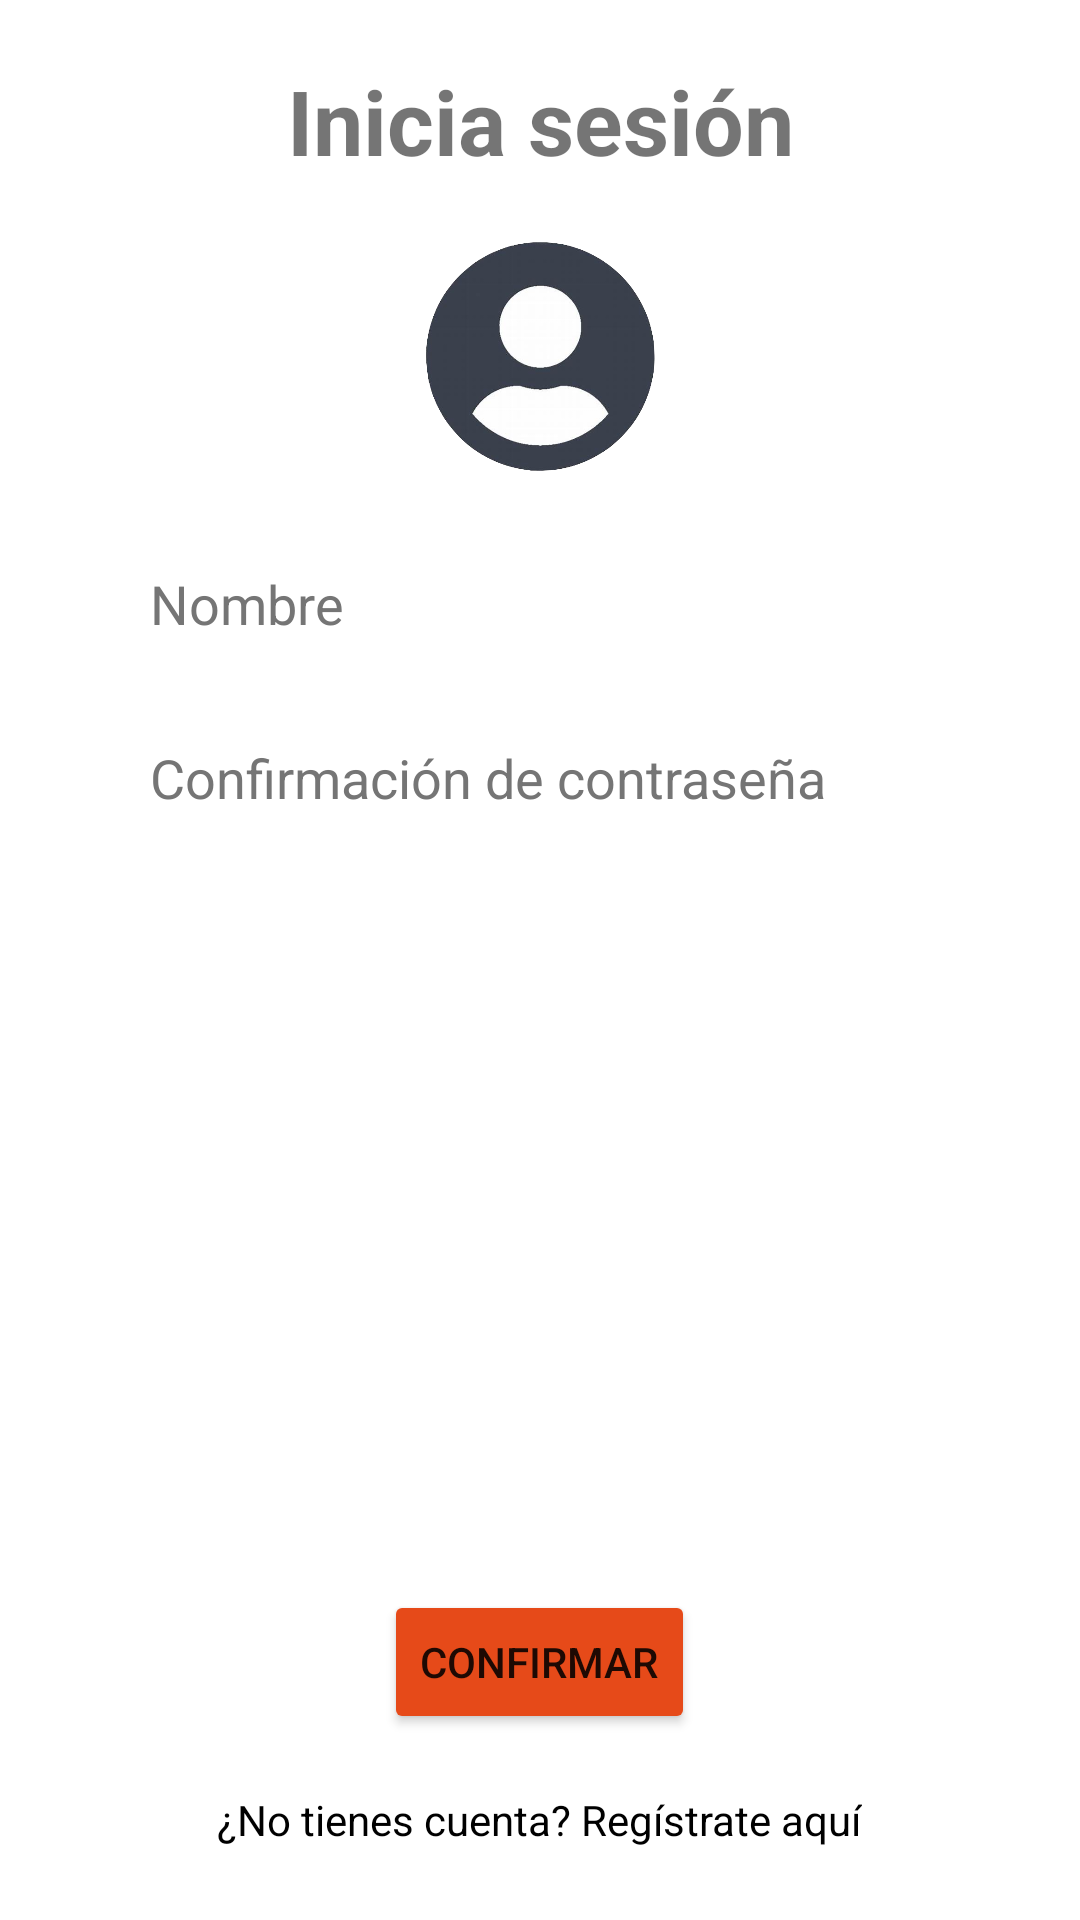

Named icons in this screenshot (1080 × 1920) and their centers, [x,y]:
user: [540,356]
